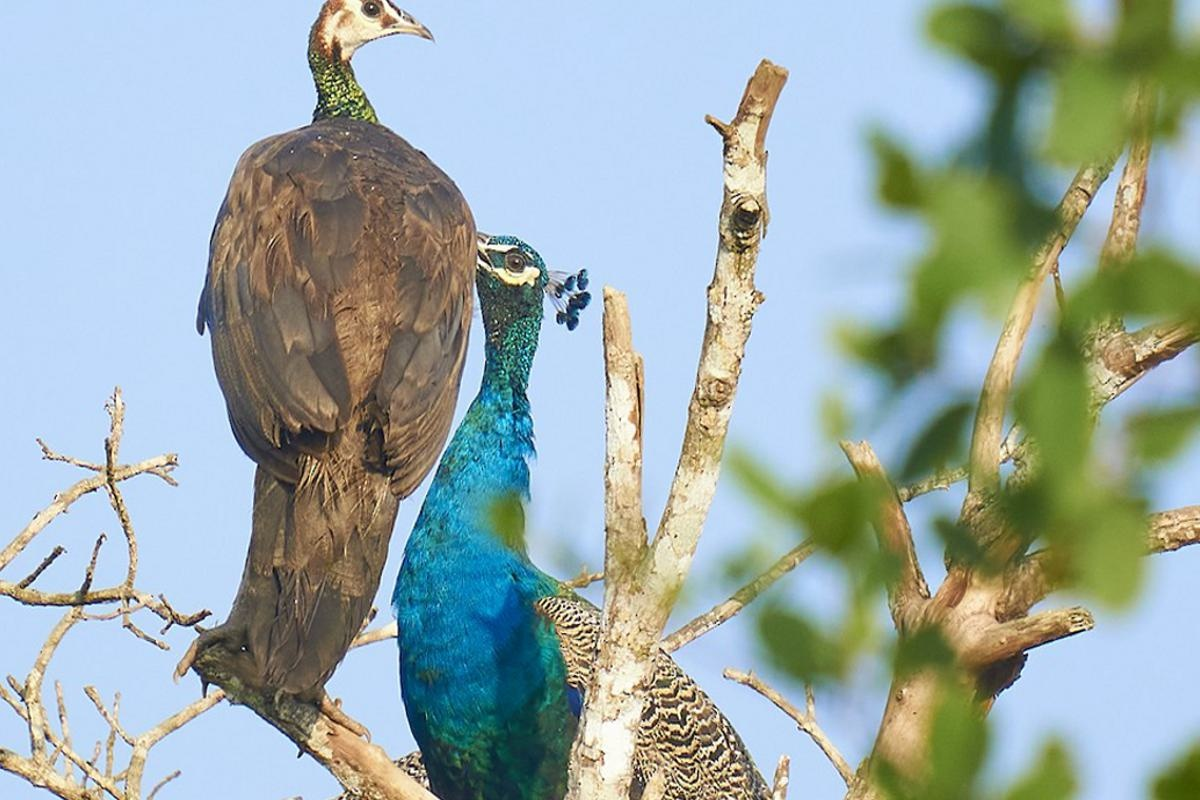peacock: (390, 216, 816, 800)
